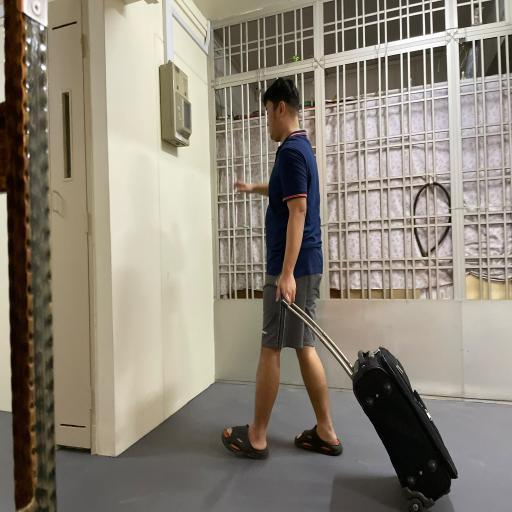person_left: (214, 77, 460, 512)
